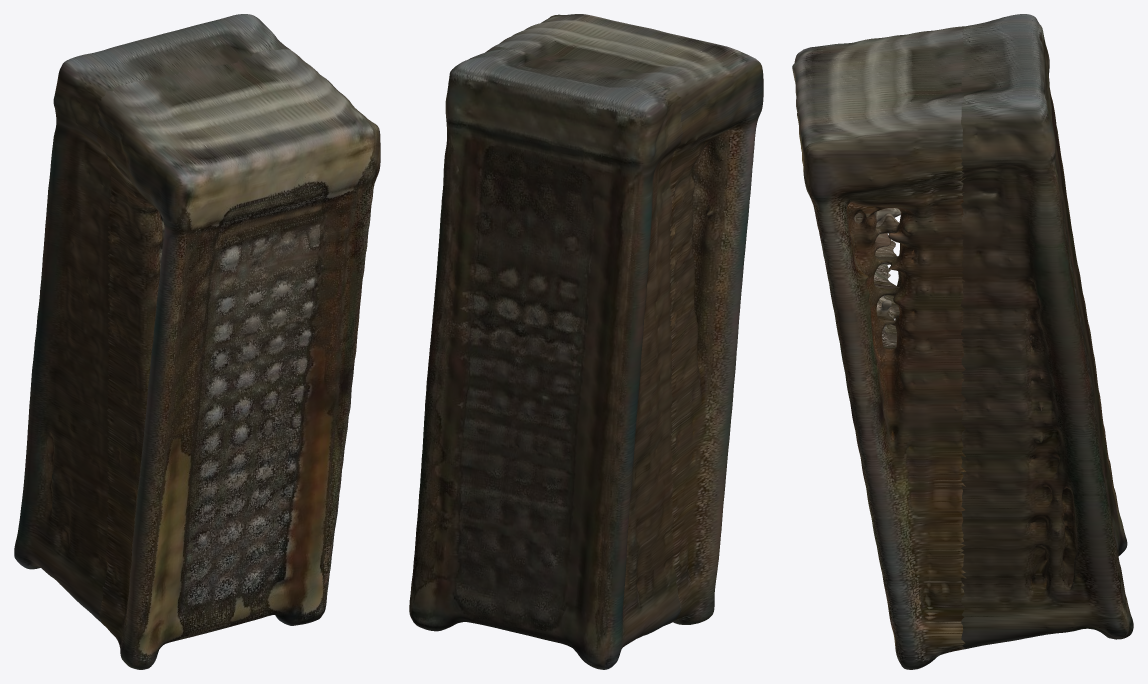
The model's file is kfl-2288.glb.
3 views of the same model, side by side, from view 1: azimuth 30°, elevation 25°; view 2: azimuth 150°, elevation 25°; view 3: azimuth 270°, elevation 25° (orthographic).
Visible parts, largest first — view 1: geometry_0; view 2: geometry_0; view 3: geometry_0.
Part boxes in pixels (left/top/right/bottom): geometry_0: left=14, top=14, right=380, bottom=669; geometry_0: left=409, top=14, right=763, bottom=669; geometry_0: left=792, top=14, right=1133, bottom=669.
Bounding box in the file's own units: 0.4025 × 0.9961 × 0.5406.
1 material, 1 textured.
